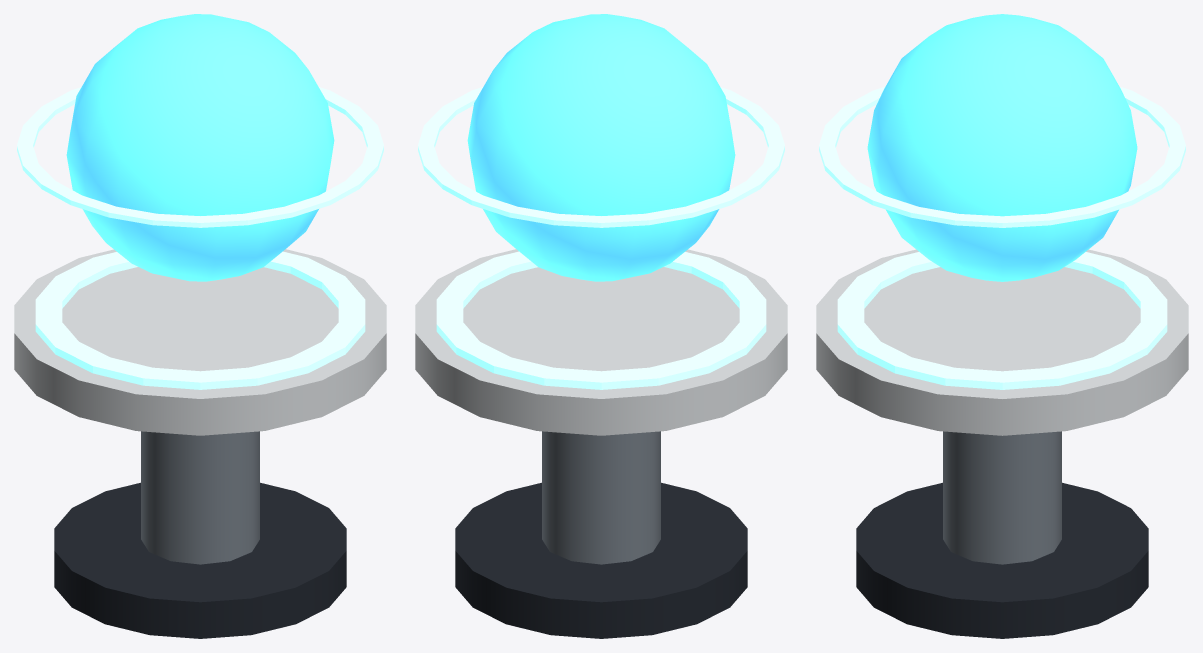
The model's file is os_holo_globe.glb.
3 renders of one model, left to right at view 1: azimuth 30°, elevation 25°; view 2: azimuth 150°, elevation 25°; view 3: azimuth 270°, elevation 25°, orthographic.
Parts seen in each view (by area): view 1: os_holo_globe; view 2: os_holo_globe; view 3: os_holo_globe.
Part boxes in pixels (x1,y1,x2,y2): os_holo_globe: (14, 14, 386, 638); os_holo_globe: (415, 14, 787, 638); os_holo_globe: (816, 14, 1188, 638).
Bounding box in the file's own units: 1.4 × 2.25 × 1.38.
